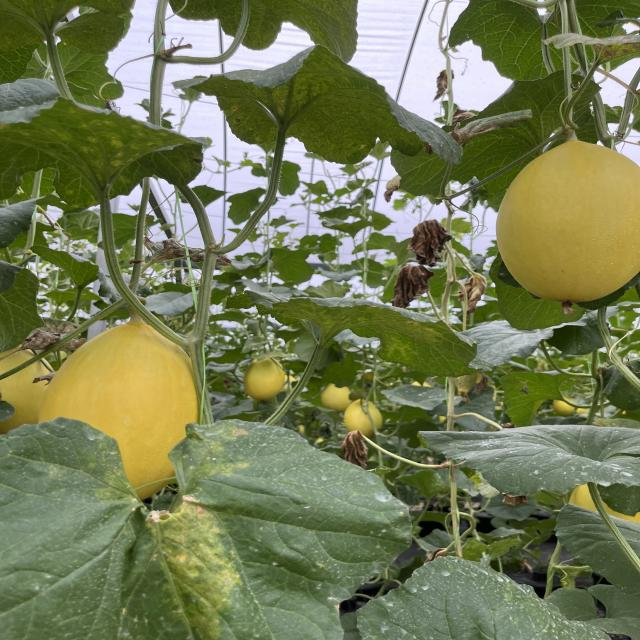CMV: (189, 52, 471, 177)
alternaria leaf blight: (548, 27, 640, 72), (453, 99, 538, 140)
bacterial wilt: (384, 256, 434, 308), (412, 214, 445, 266), (459, 273, 491, 314)
downy mildew: (2, 404, 411, 640), (346, 543, 605, 640), (417, 416, 640, 512), (266, 286, 480, 381), (0, 104, 211, 188)
